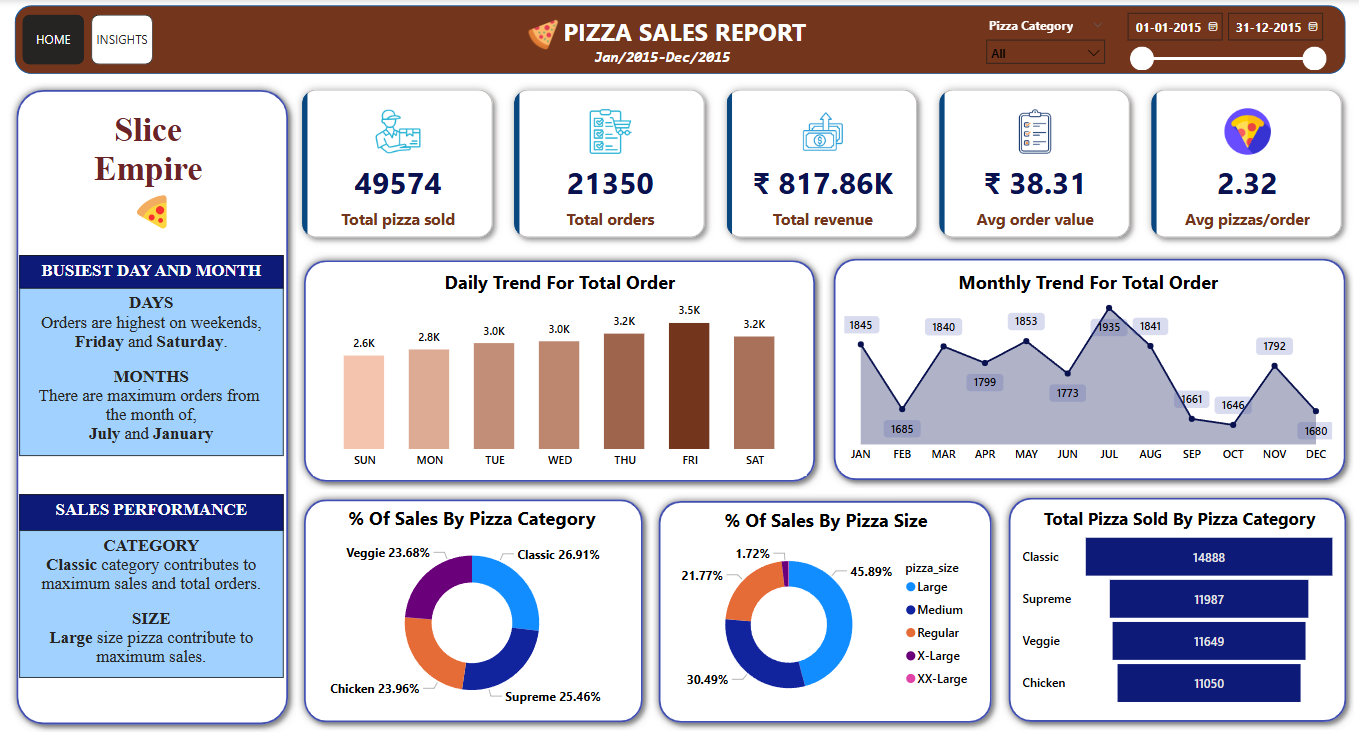

Layout of this report page (visuals, bound fields, positions):
{"tool":"powerbi","page":{"name":"HOME","canvas":[1500,820],"ordinal":0},"visuals":[{"type":"cardVisual","fields":{"Data":["pizza_sales.Total pizza sold","pizza_sales.Total orders","pizza_sales.Total Revenue","pizza_sales.Average order value","pizza_sales.Average pizzas per order"]},"box":[317.2,82.7,1182,197],"z":0},{"type":"shape","box":[16.7,7.5,1466.7,75.8],"z":1000},{"type":"textbox","box":[591.5,12.1,326.7,72.5],"z":2000},{"type":"textbox","box":[650.1,49.3,202.9,151.7],"z":3000},{"type":"image","box":[569.1,16.4,59.5,44.3],"z":4000},{"type":"shape","box":[327,279.7,581.2,262],"z":5000},{"type":"shape","box":[910,278,582,262],"z":6000},{"type":"columnChart","title":"Daily Trend For Total Order","fields":{"Category":["pizza_sales.Order day"],"Y":["pizza_sales.Total orders"]},"box":[346,298,544,228],"z":7000},{"type":"lineChart","title":"Monthly Trend For Total Order","fields":{"Y":["pizza_sales.Total orders"],"Category":["pizza_sales.Order month"]},"box":[926,298,548,222],"z":8000},{"type":"shape","box":[327.5,542.5,391.2,263.8],"z":9000},{"type":"shape","box":[718.8,543.8,385,262.5],"z":10000},{"type":"shape","box":[1103.8,541.2,390,265],"z":11000},{"type":"donutChart","title":"% Of Sales By Pizza Category","fields":{"Category":["pizza_sales.pizza_category"],"Y":["pizza_sales.Total revenue"]},"box":[346,558,350,232],"z":12000},{"type":"donutChart","title":"% Of Sales By Pizza Size","fields":{"Y":["pizza_sales.Total revenue"],"Category":["pizza_sales.pizza_size"]},"box":[736.8,559.5,348.7,232.5],"z":13000},{"type":"funnel","title":"Total Pizza Sold By Pizza Category","fields":{"Category":["pizza_sales.pizza_category"],"Y":["pizza_sales.Total pizza sold"]},"box":[1122.9,559.5,356.6,224.6],"z":14000},{"type":"shape","box":[9.9,90.6,317.2,717.1],"z":15000},{"type":"textbox","box":[22.4,281.6,291.4,36.8],"z":16000},{"type":"textbox","box":[22.4,318.4,291.4,184.9],"z":17000},{"type":"textbox","box":[22.4,546.1,291.4,40.1],"z":18000},{"type":"textbox","box":[22.4,585.5,291.4,162.5],"z":19000},{"type":"slicer","fields":{"Values":["pizza_sales.order_date"]},"box":[1230.4,5.7,239.7,73.6],"z":20000},{"type":"slicer","fields":{"Values":["pizza_sales.pizza_category"]},"box":[1077.5,15.1,151,60.4],"z":21000},{"type":"pageNavigator","box":[25.6,17.7,69,55.2],"z":21001},{"type":"pageNavigator","box":[102.4,17.7,69,55.2],"z":21002},{"type":"textbox","box":[23.6,116.2,289.6,153.7],"z":21003}]}

Visuals, with their boxes in screenshot pixels (x1, y1, x2, y2), scaled from the page's 1500x820 canvas onto the 1359x741 screenshot:
cardVisual - pizza_sales.Total pizza sold x pizza_sales.Total orders: <region>287, 75, 1358, 253</region>
shape: <region>15, 7, 1344, 75</region>
textbox: <region>536, 11, 832, 76</region>
textbox: <region>589, 45, 773, 182</region>
image: <region>516, 15, 570, 55</region>
shape: <region>296, 253, 823, 490</region>
shape: <region>824, 251, 1352, 488</region>
"Daily Trend For Total Order" columnChart: <region>313, 269, 806, 475</region>
"Monthly Trend For Total Order" lineChart: <region>839, 269, 1335, 470</region>
shape: <region>297, 490, 651, 729</region>
shape: <region>651, 491, 1000, 729</region>
shape: <region>1000, 489, 1353, 729</region>
"% Of Sales By Pizza Category" donutChart: <region>313, 504, 631, 714</region>
"% Of Sales By Pizza Size" donutChart: <region>668, 506, 983, 716</region>
"Total Pizza Sold By Pizza Category" funnel: <region>1017, 506, 1340, 709</region>
shape: <region>9, 82, 296, 730</region>
textbox: <region>20, 254, 284, 288</region>
textbox: <region>20, 288, 284, 455</region>
textbox: <region>20, 493, 284, 530</region>
textbox: <region>20, 529, 284, 676</region>
slicer - pizza_sales.order_date: <region>1115, 5, 1332, 72</region>
slicer - pizza_sales.pizza_category: <region>976, 14, 1113, 68</region>
pageNavigator: <region>23, 16, 86, 66</region>
pageNavigator: <region>93, 16, 155, 66</region>
textbox: <region>21, 105, 284, 244</region>
